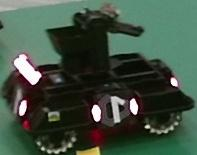armor_1: (92, 98, 138, 122)
light: (13, 53, 42, 85)
right_1: (99, 93, 131, 126)
